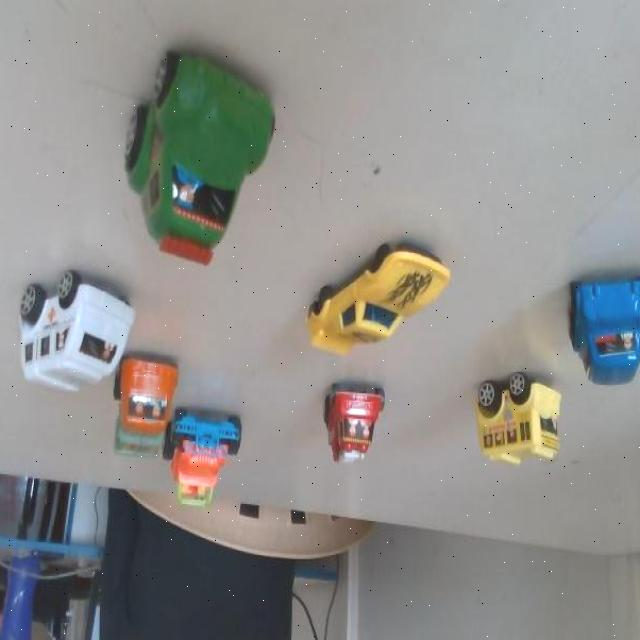car: (112, 70, 270, 261), (301, 233, 447, 368), (13, 258, 135, 409), (562, 258, 640, 394), (466, 363, 556, 467), (169, 412, 252, 516), (110, 351, 178, 470), (311, 370, 385, 476)
